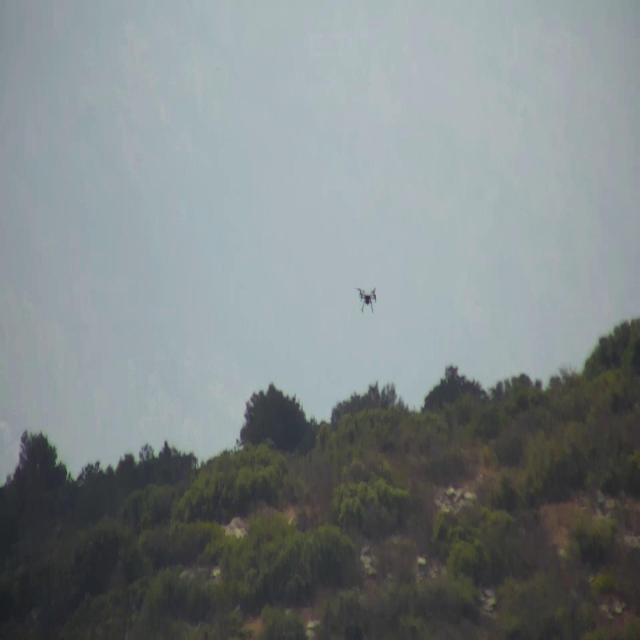drone: (352, 281, 380, 317)
